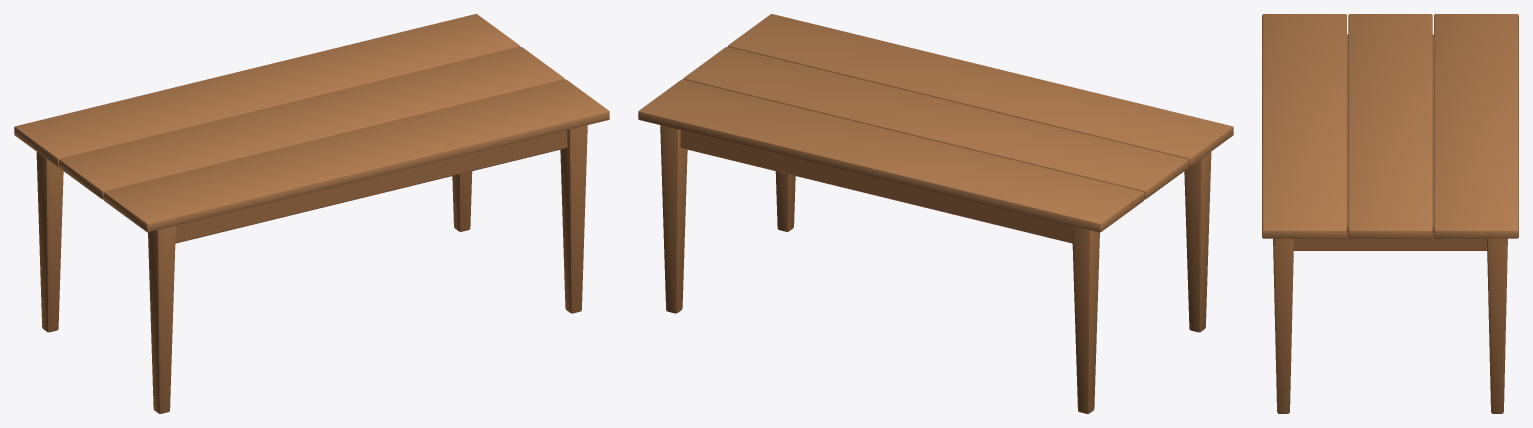
Rendered from DiningTable.fbx.
3 renders of one model, left to right at view 1: azimuth 30°, elevation 25°; view 2: azimuth 150°, elevation 25°; view 3: azimuth 270°, elevation 25°, orthographic. The views are drawn at different scales.
Visible parts, largest first — view 1: DiningTable_Mesh; view 2: DiningTable_Mesh; view 3: DiningTable_Mesh.
Boxes of the visible parts, <box> form: DiningTable_Mesh: <box>14,14,609,413</box>; DiningTable_Mesh: <box>638,14,1233,413</box>; DiningTable_Mesh: <box>1262,14,1518,413</box>.
Bounding box in the file's own units: 1.8 × 0.75 × 0.9.
